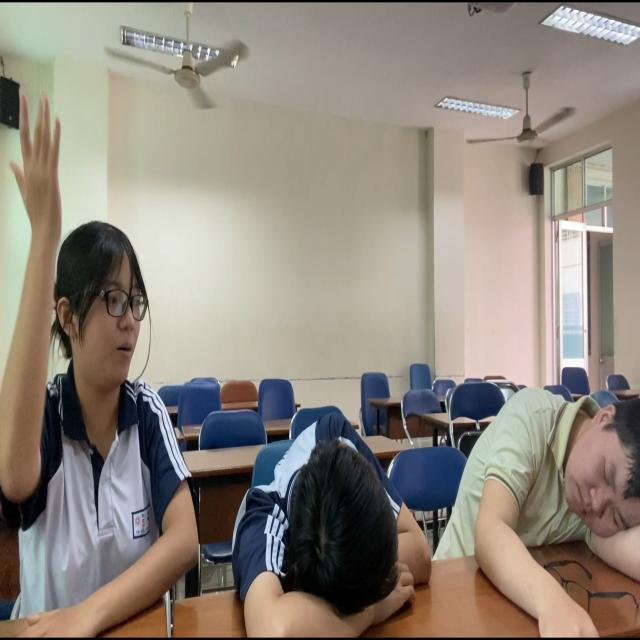raise_hand: (1, 83, 198, 640)
sleep: (209, 392, 462, 640), (420, 376, 640, 640)
